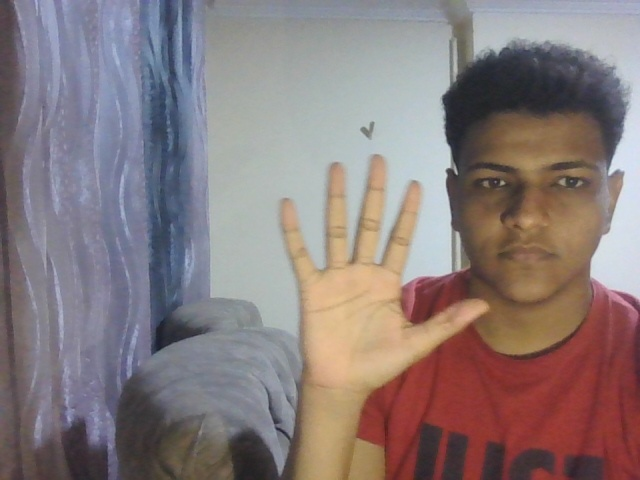Hello: (275, 148, 492, 396)
